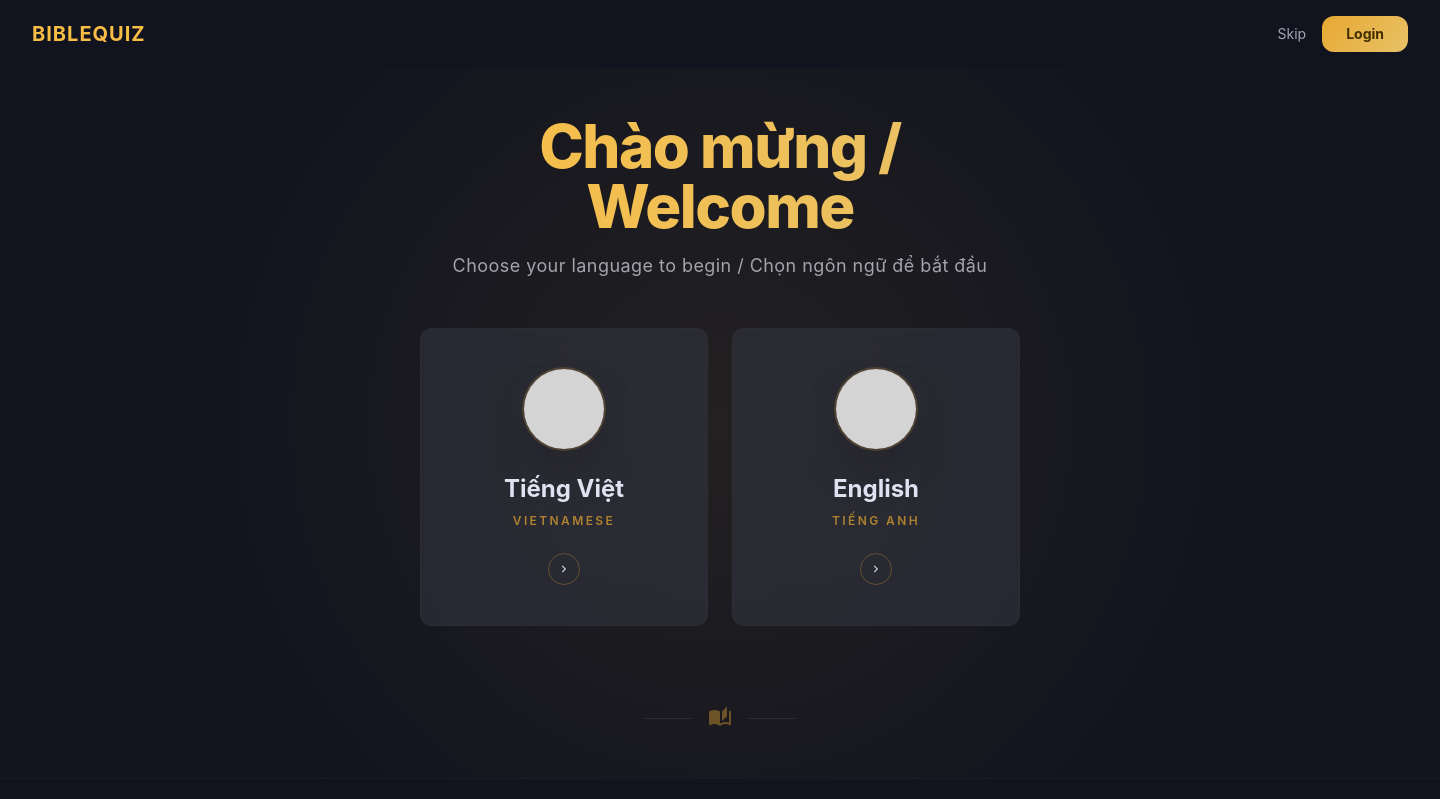
Test case: Onboarding › Slide Navigation (steps 1-3) › slide 3 shows scripture quote and start button
Click the text "Tiếng Việt" at (564, 489), box [504, 473, 624, 505]
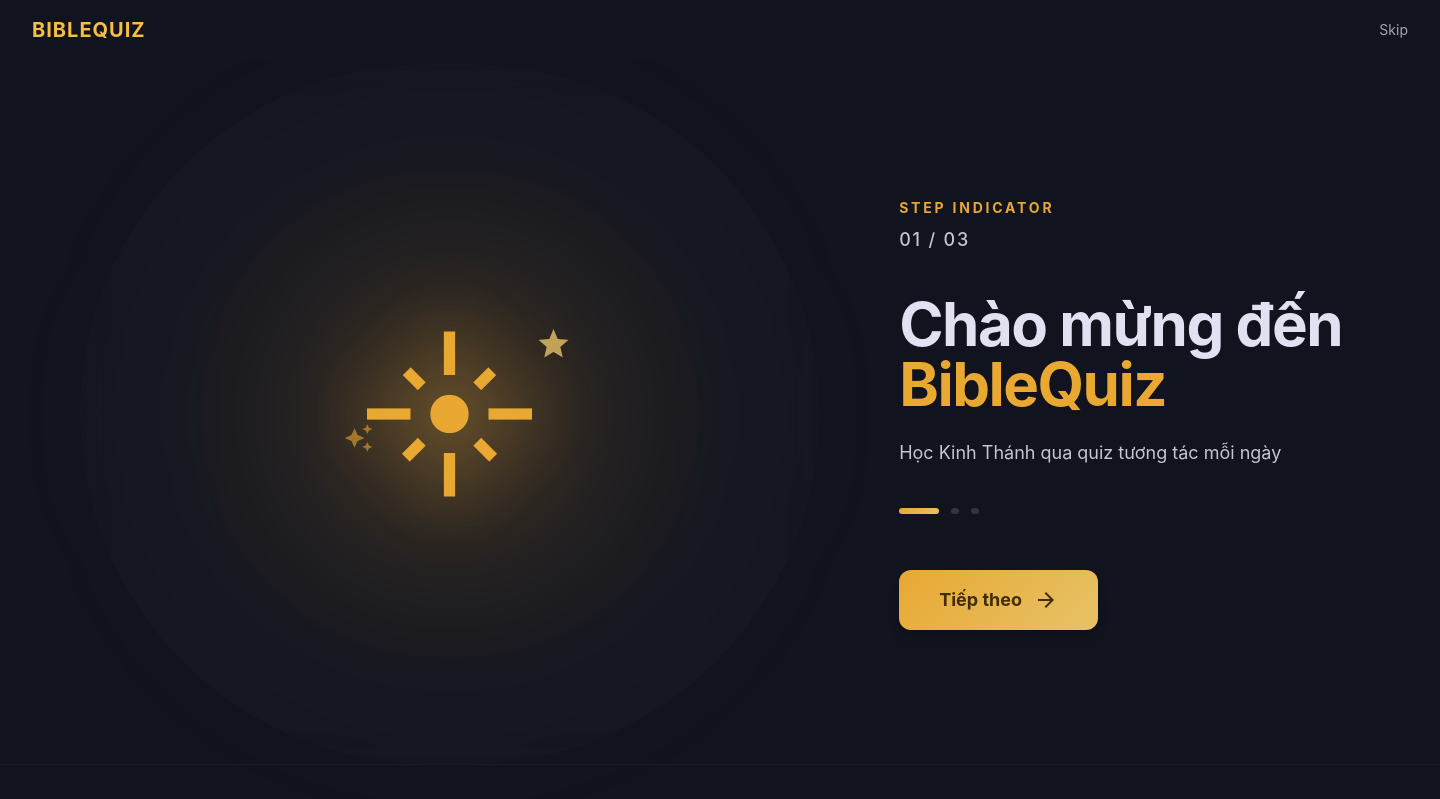
Click the button "Tiếp theo" at (999, 600), box [899, 570, 1098, 630]
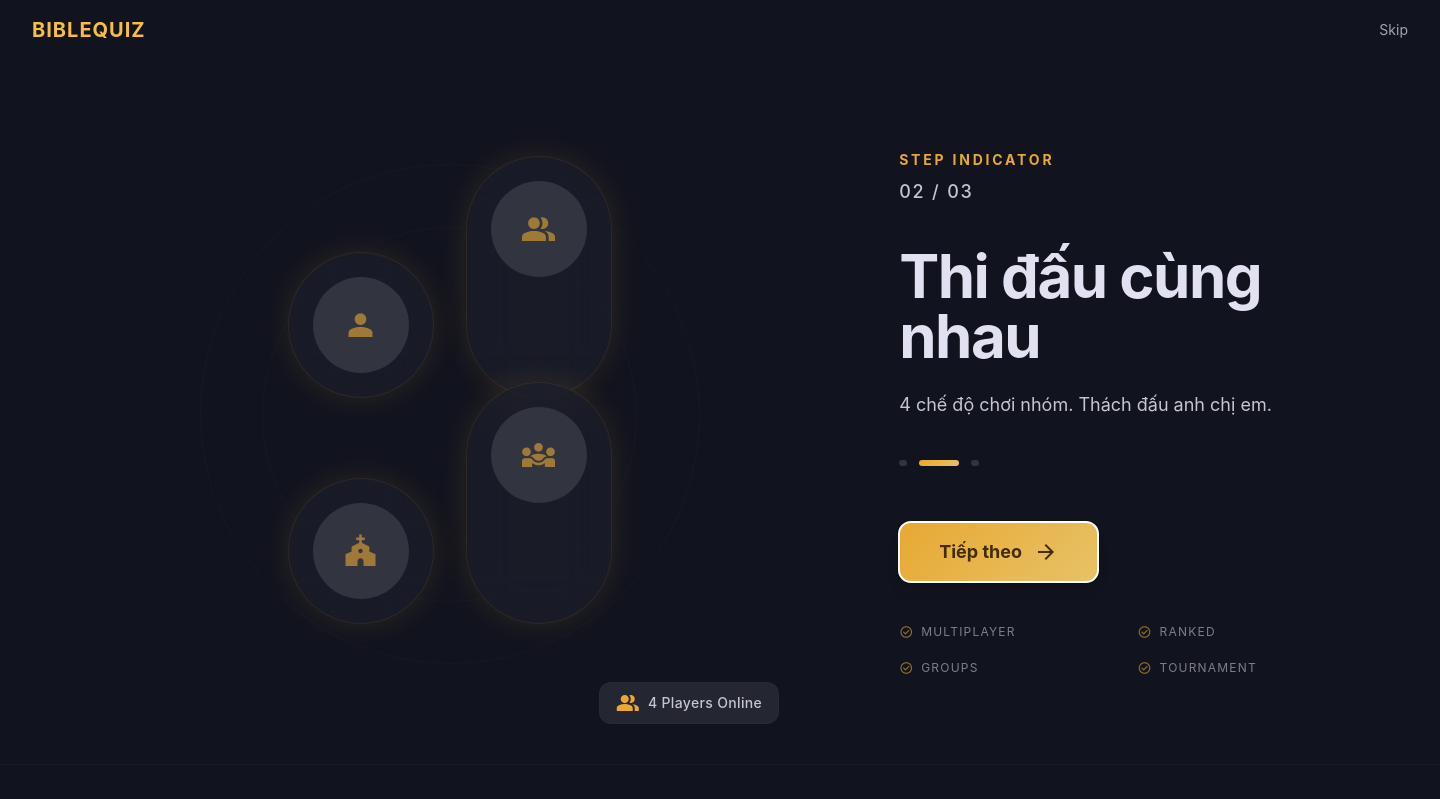
Click the button "Tiếp theo" at (999, 552), box [899, 522, 1098, 582]
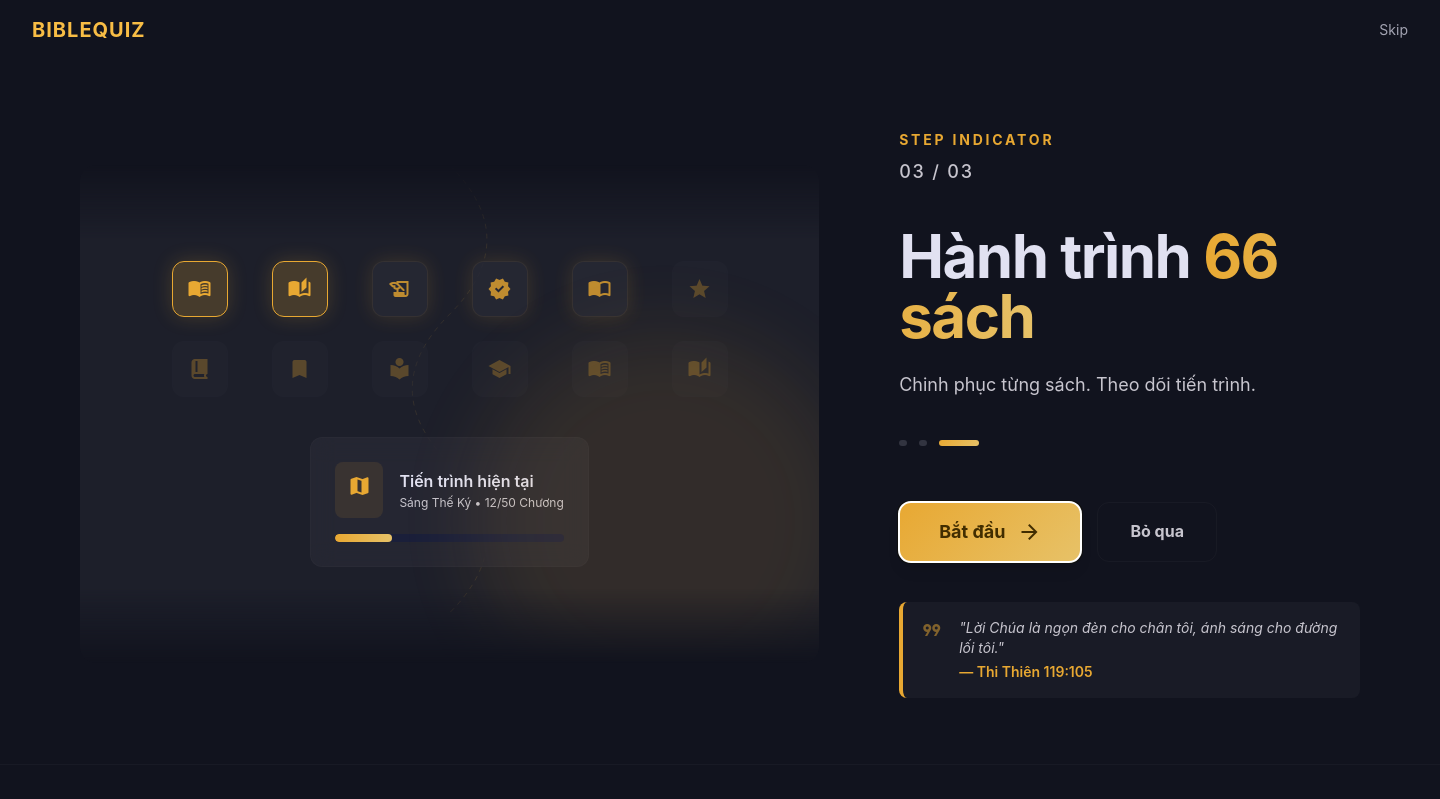
Now the text "03 / 03" is shown, box [899, 161, 974, 182]
Now the text "— Thi Thiên 119:105" is shown, box [959, 663, 1093, 680]
